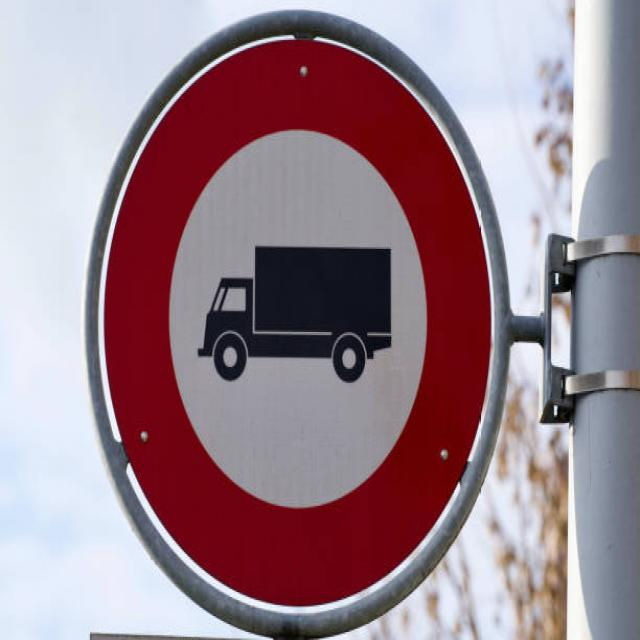do_not_enter: (92, 18, 508, 612)
